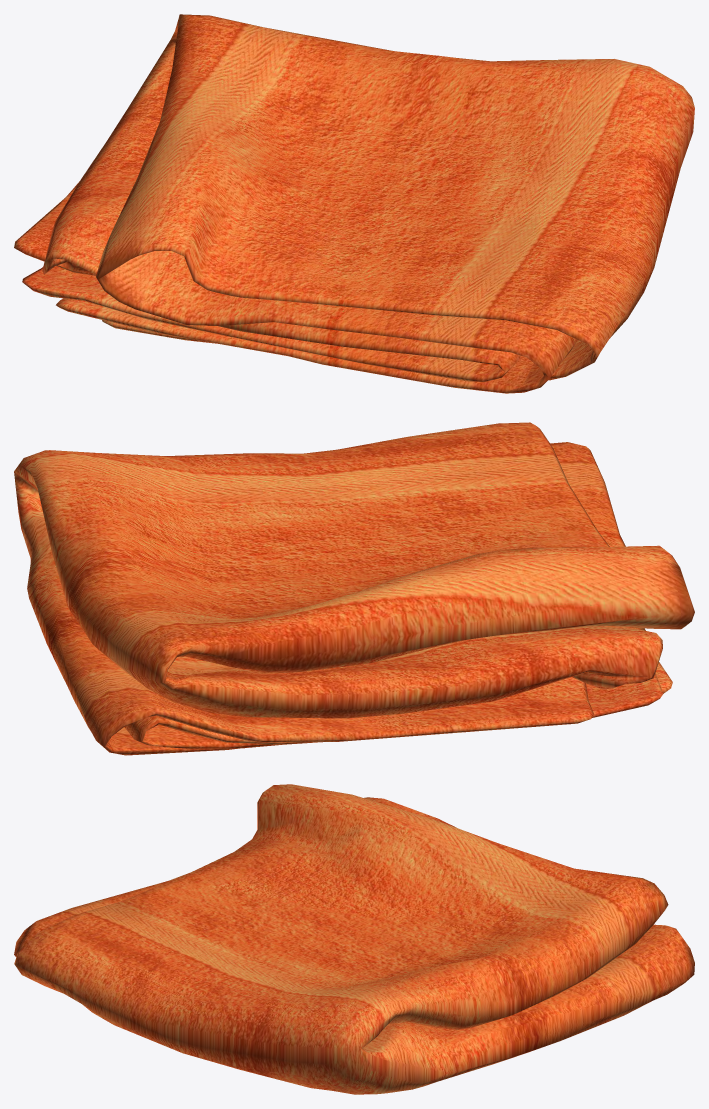
File: Towel 3.FBX
3 views of the same model, one above another, from view 1: azimuth 30°, elevation 25°; view 2: azimuth 150°, elevation 25°; view 3: azimuth 270°, elevation 25° (orthographic). The views are drawn at different scales.
Visible parts, largest first — view 1: Towel; view 2: Towel; view 3: Towel.
Boxes of the visible parts, left/top/right/bottom form: Towel: left=14, top=14, right=694, bottom=393; Towel: left=14, top=422, right=694, bottom=755; Towel: left=14, top=784, right=694, bottom=1094.
Bounding box in the file's own units: 326 × 352 × 64.02.
1 material, 1 textured.
